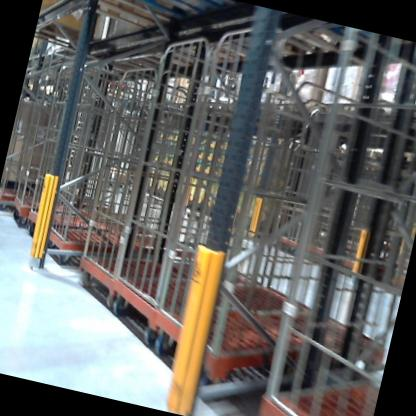pallet: (53, 0, 213, 48), (133, 0, 236, 23)
